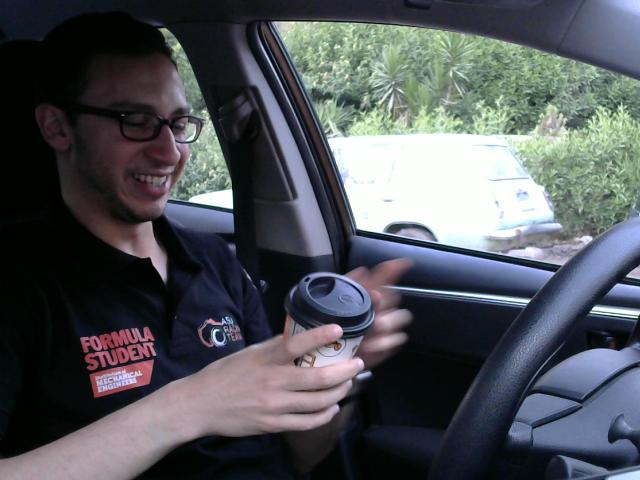Drinking: (278, 263, 382, 417)
